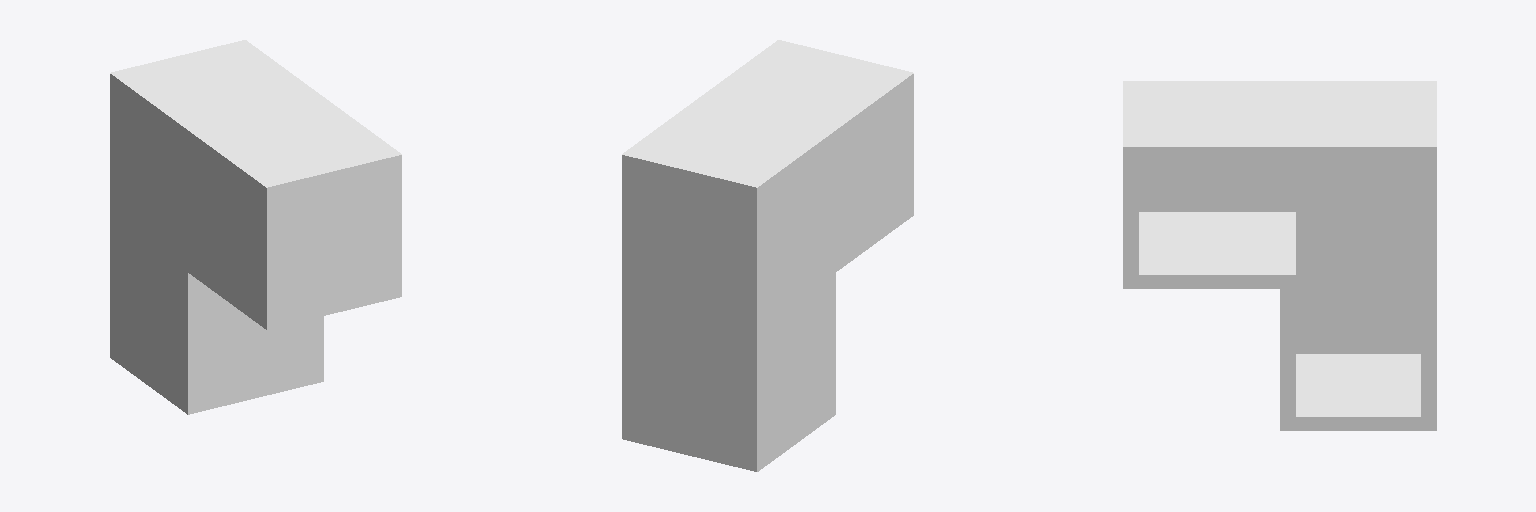
Rendered from LShapedRoom2.obj.
The picture shows the model from 3 angles: view 1: azimuth 30°, elevation 25°; view 2: azimuth 150°, elevation 25°; view 3: azimuth 270°, elevation 25°; orthographic projection.
Visible parts, largest first — view 1: LShapedRoom2; view 2: LShapedRoom2; view 3: LShapedRoom2.
Boxes of the visible parts, x1=… form: LShapedRoom2: x1=110, y1=40, x2=401, y2=414; LShapedRoom2: x1=622, y1=40, x2=913, y2=471; LShapedRoom2: x1=1123, y1=81, x2=1436, y2=430.
Size of the model in its own units: 20 by 40 by 40.